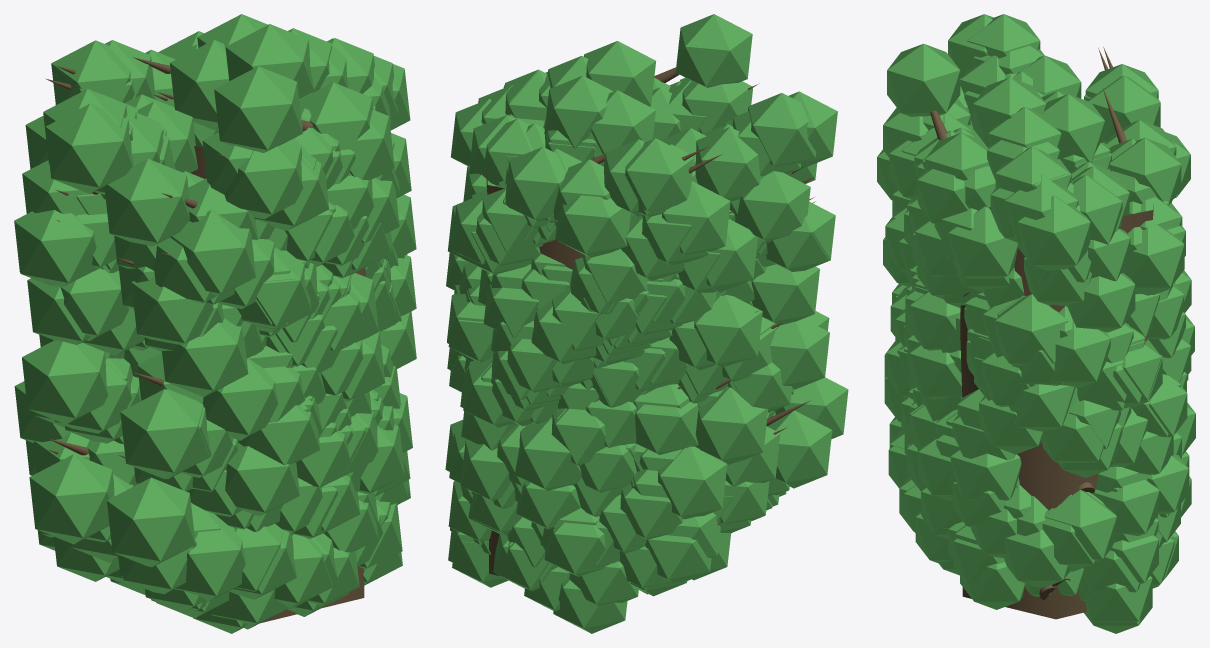
The model's file is tree_var_8425.glb.
The picture shows the model from 3 angles, left to right: view 1: azimuth 30°, elevation 25°; view 2: azimuth 150°, elevation 25°; view 3: azimuth 270°, elevation 25°; orthographic projection. The views are drawn at different scales.
Parts seen in each view (by area): view 1: tree_var_8425; view 2: tree_var_8425; view 3: tree_var_8425.
Boxes of the visible parts, x1,y1,x2,y2 form: tree_var_8425: [14, 14, 416, 633]; tree_var_8425: [445, 14, 848, 633]; tree_var_8425: [877, 14, 1195, 633].
Size of the model in its own units: 3.76 by 5.52 by 2.96.
